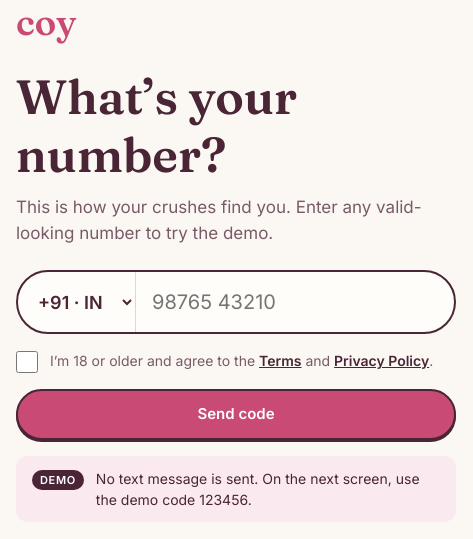
Test: LoginPage › lets the user change the number and shows the resend countdown
Type "9876543210" into the field named "Phone number".
click(295, 302); type("9876543210")  # box [136,272,454,332]
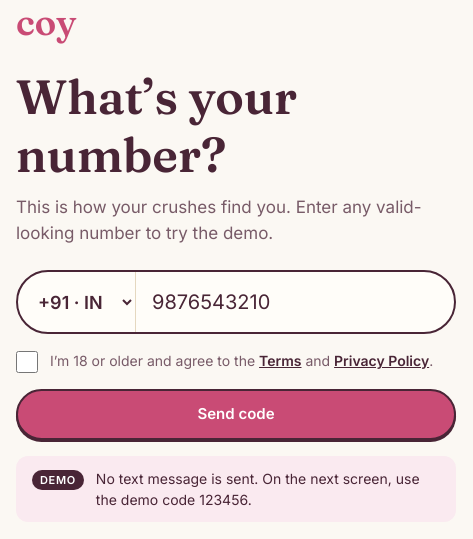
Click the checkbox.
click(27, 362)  # box [16,351,38,373]
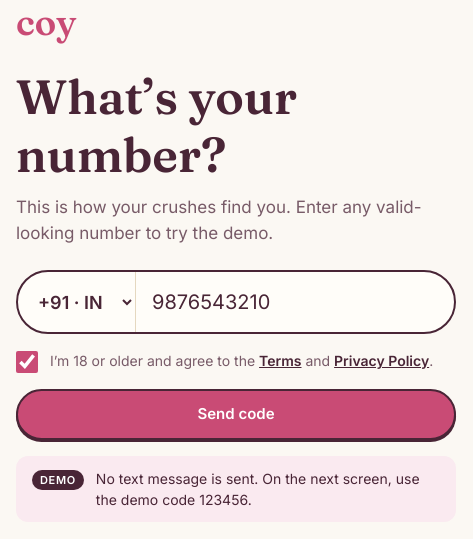
Click the button "Send code".
click(236, 414)  # box [16,389,456,440]
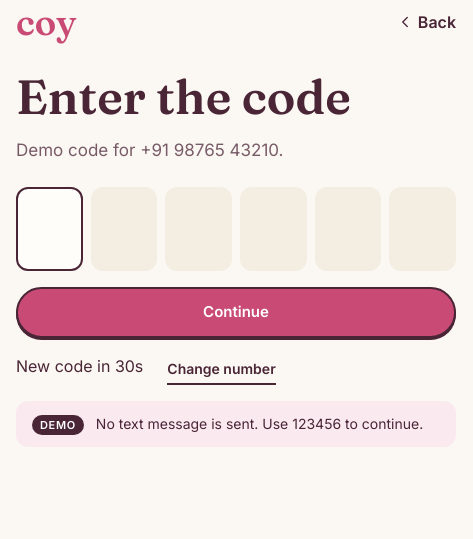
Check: the text "New code in 30s" is shown, box [16,354,143,385]
Click the button "Change number".
click(222, 369)  # box [167,354,276,385]
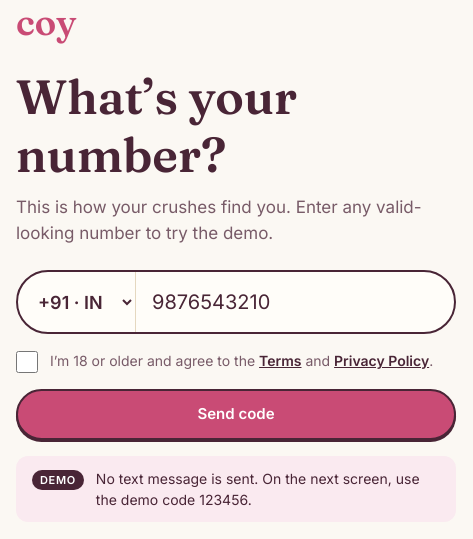
Check: the heading "What’s your number?" is shown, box [16,67,297,184]
